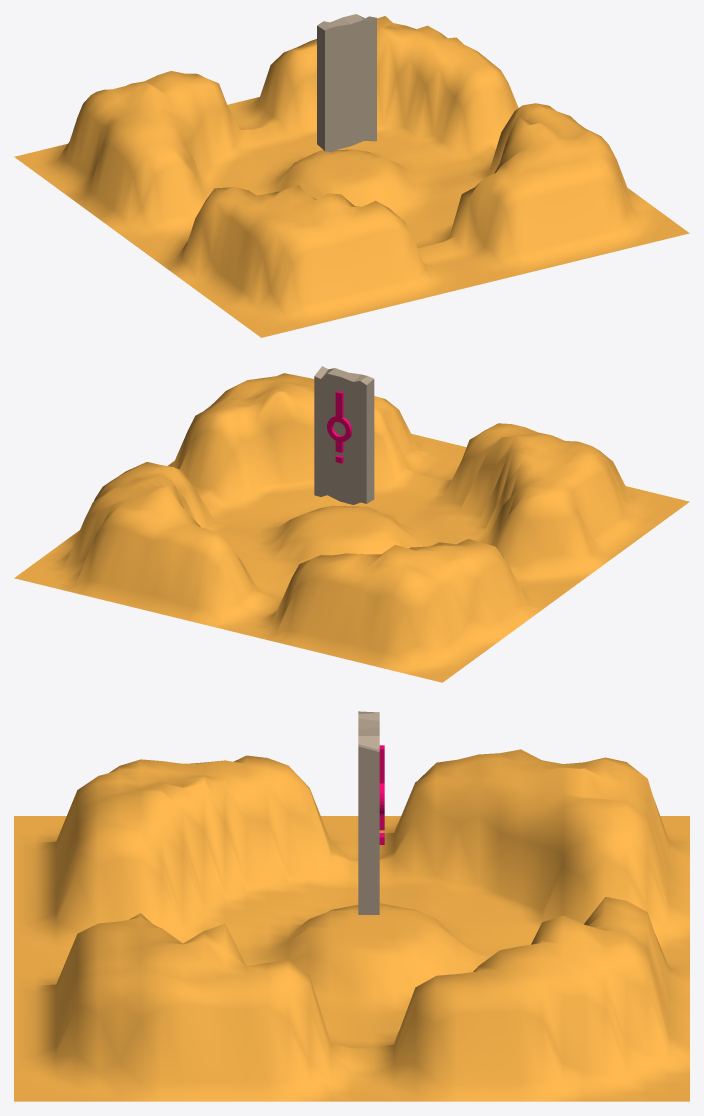
The model's file is obelisk.fbx.
The picture shows the model from 3 angles, top to bottom: view 1: azimuth 30°, elevation 25°; view 2: azimuth 150°, elevation 25°; view 3: azimuth 270°, elevation 25°; orthographic projection. The views are drawn at different scales.
Parts seen in each view (by area): view 1: obeliskmaa, obelisk; view 2: obeliskmaa, obelisk; view 3: obeliskmaa, obelisk.
Part boxes in pixels (bbox=[...]): obeliskmaa: bbox=[14, 16, 689, 337]; obelisk: bbox=[317, 14, 376, 152]; obeliskmaa: bbox=[14, 373, 689, 682]; obelisk: bbox=[314, 366, 374, 504]; obeliskmaa: bbox=[14, 749, 689, 1101]; obelisk: bbox=[358, 711, 384, 914].
Size of the model in its own units: 4 by 1.54 by 4.
